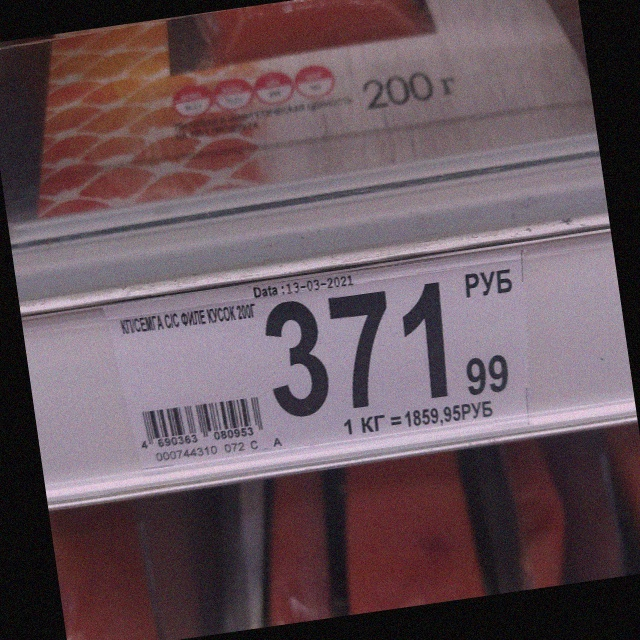barcode: (136, 393, 267, 452)
name: (118, 301, 258, 339)
price: (262, 280, 529, 418)
price_tag: (106, 248, 559, 474)
